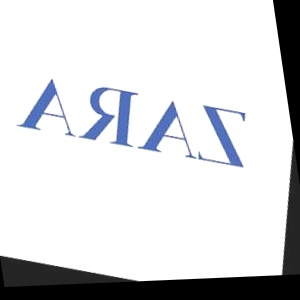zara: (228, 7, 273, 94)
